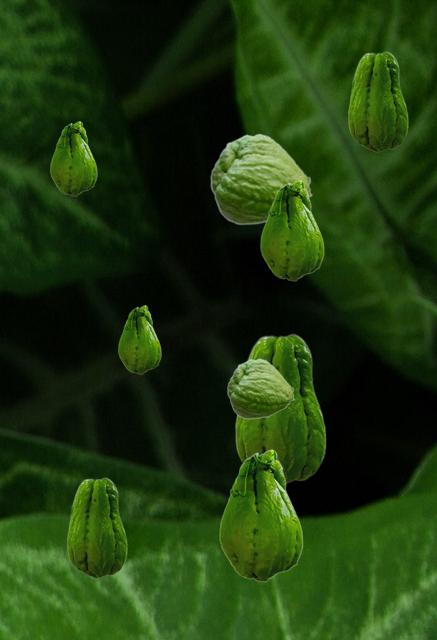sayote: (235, 333, 325, 484), (219, 449, 302, 581), (210, 133, 312, 224), (260, 180, 323, 280), (348, 51, 407, 151), (67, 477, 126, 577), (227, 358, 294, 418), (50, 121, 96, 195), (118, 305, 160, 373)
